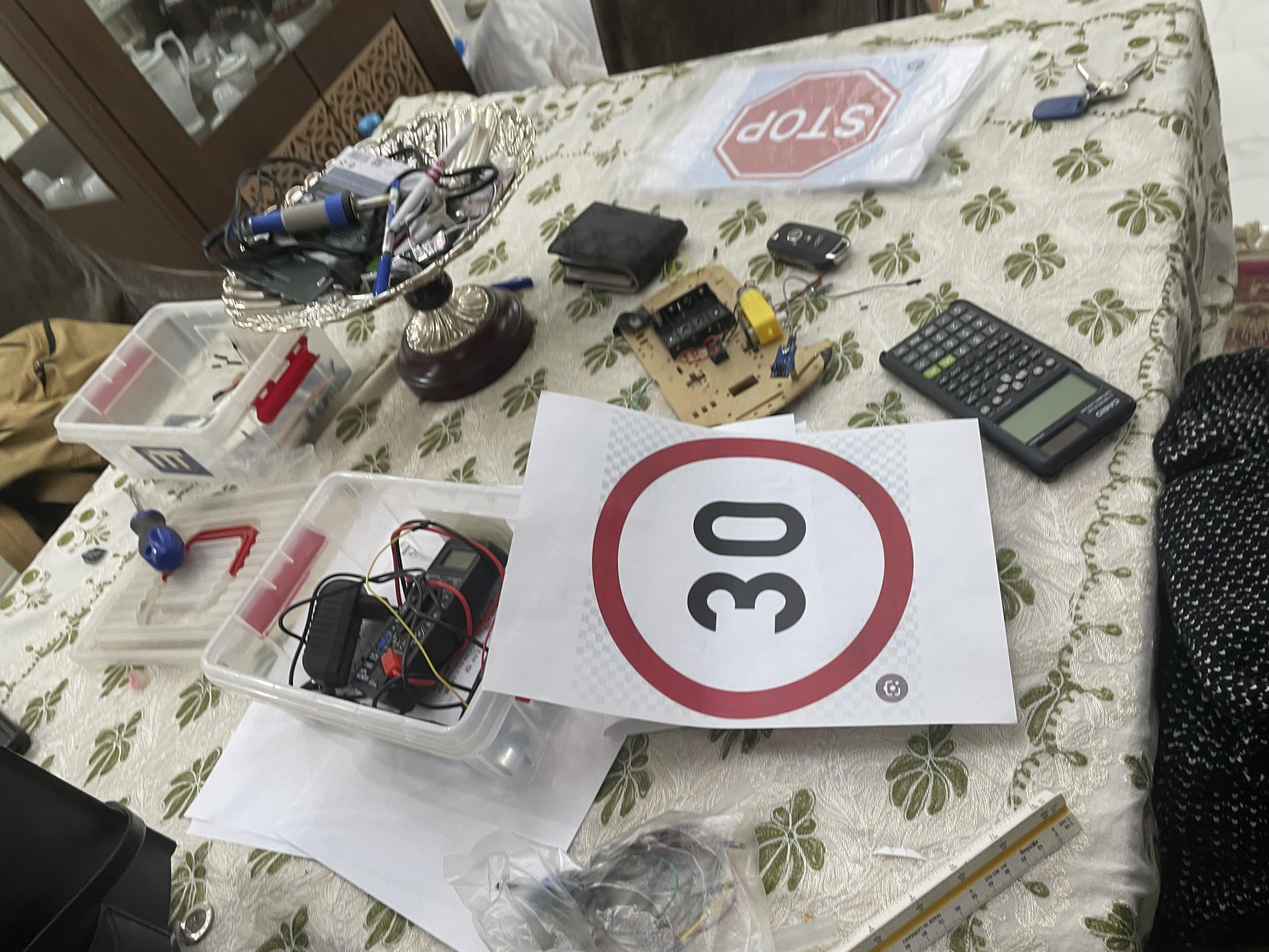30-speed: (314, 440, 693, 689)
